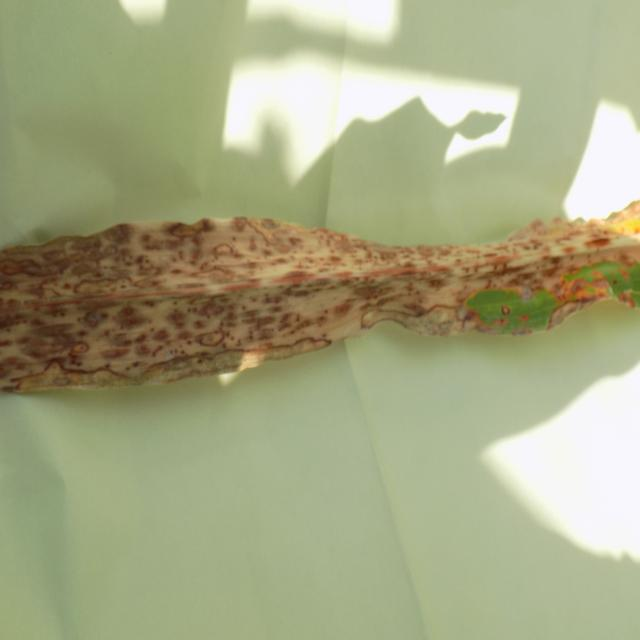millet_rust: (0, 198, 640, 388)
